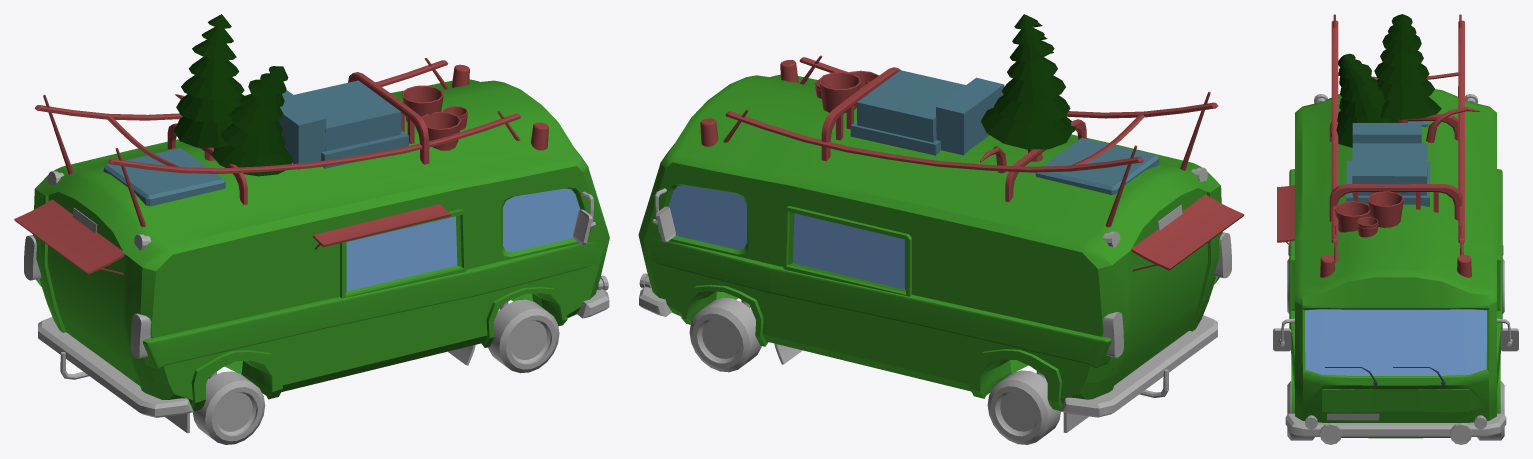
File: playerCar01 1.fbx
3 views of the same model, side by side, from view 1: azimuth 30°, elevation 25°; view 2: azimuth 150°, elevation 25°; view 3: azimuth 270°, elevation 25° (orthographic). The views are drawn at different scales.
Visible parts, largest first — view 1: polySurface38; view 2: polySurface38; view 3: polySurface38.
Part boxes in pixels (x1,y1,x2,y2): polySurface38: (14, 14, 609, 444); polySurface38: (638, 14, 1244, 444); polySurface38: (1273, 14, 1518, 444).
Bounding box in the file's own units: 4.03 × 2.78 × 1.93.
